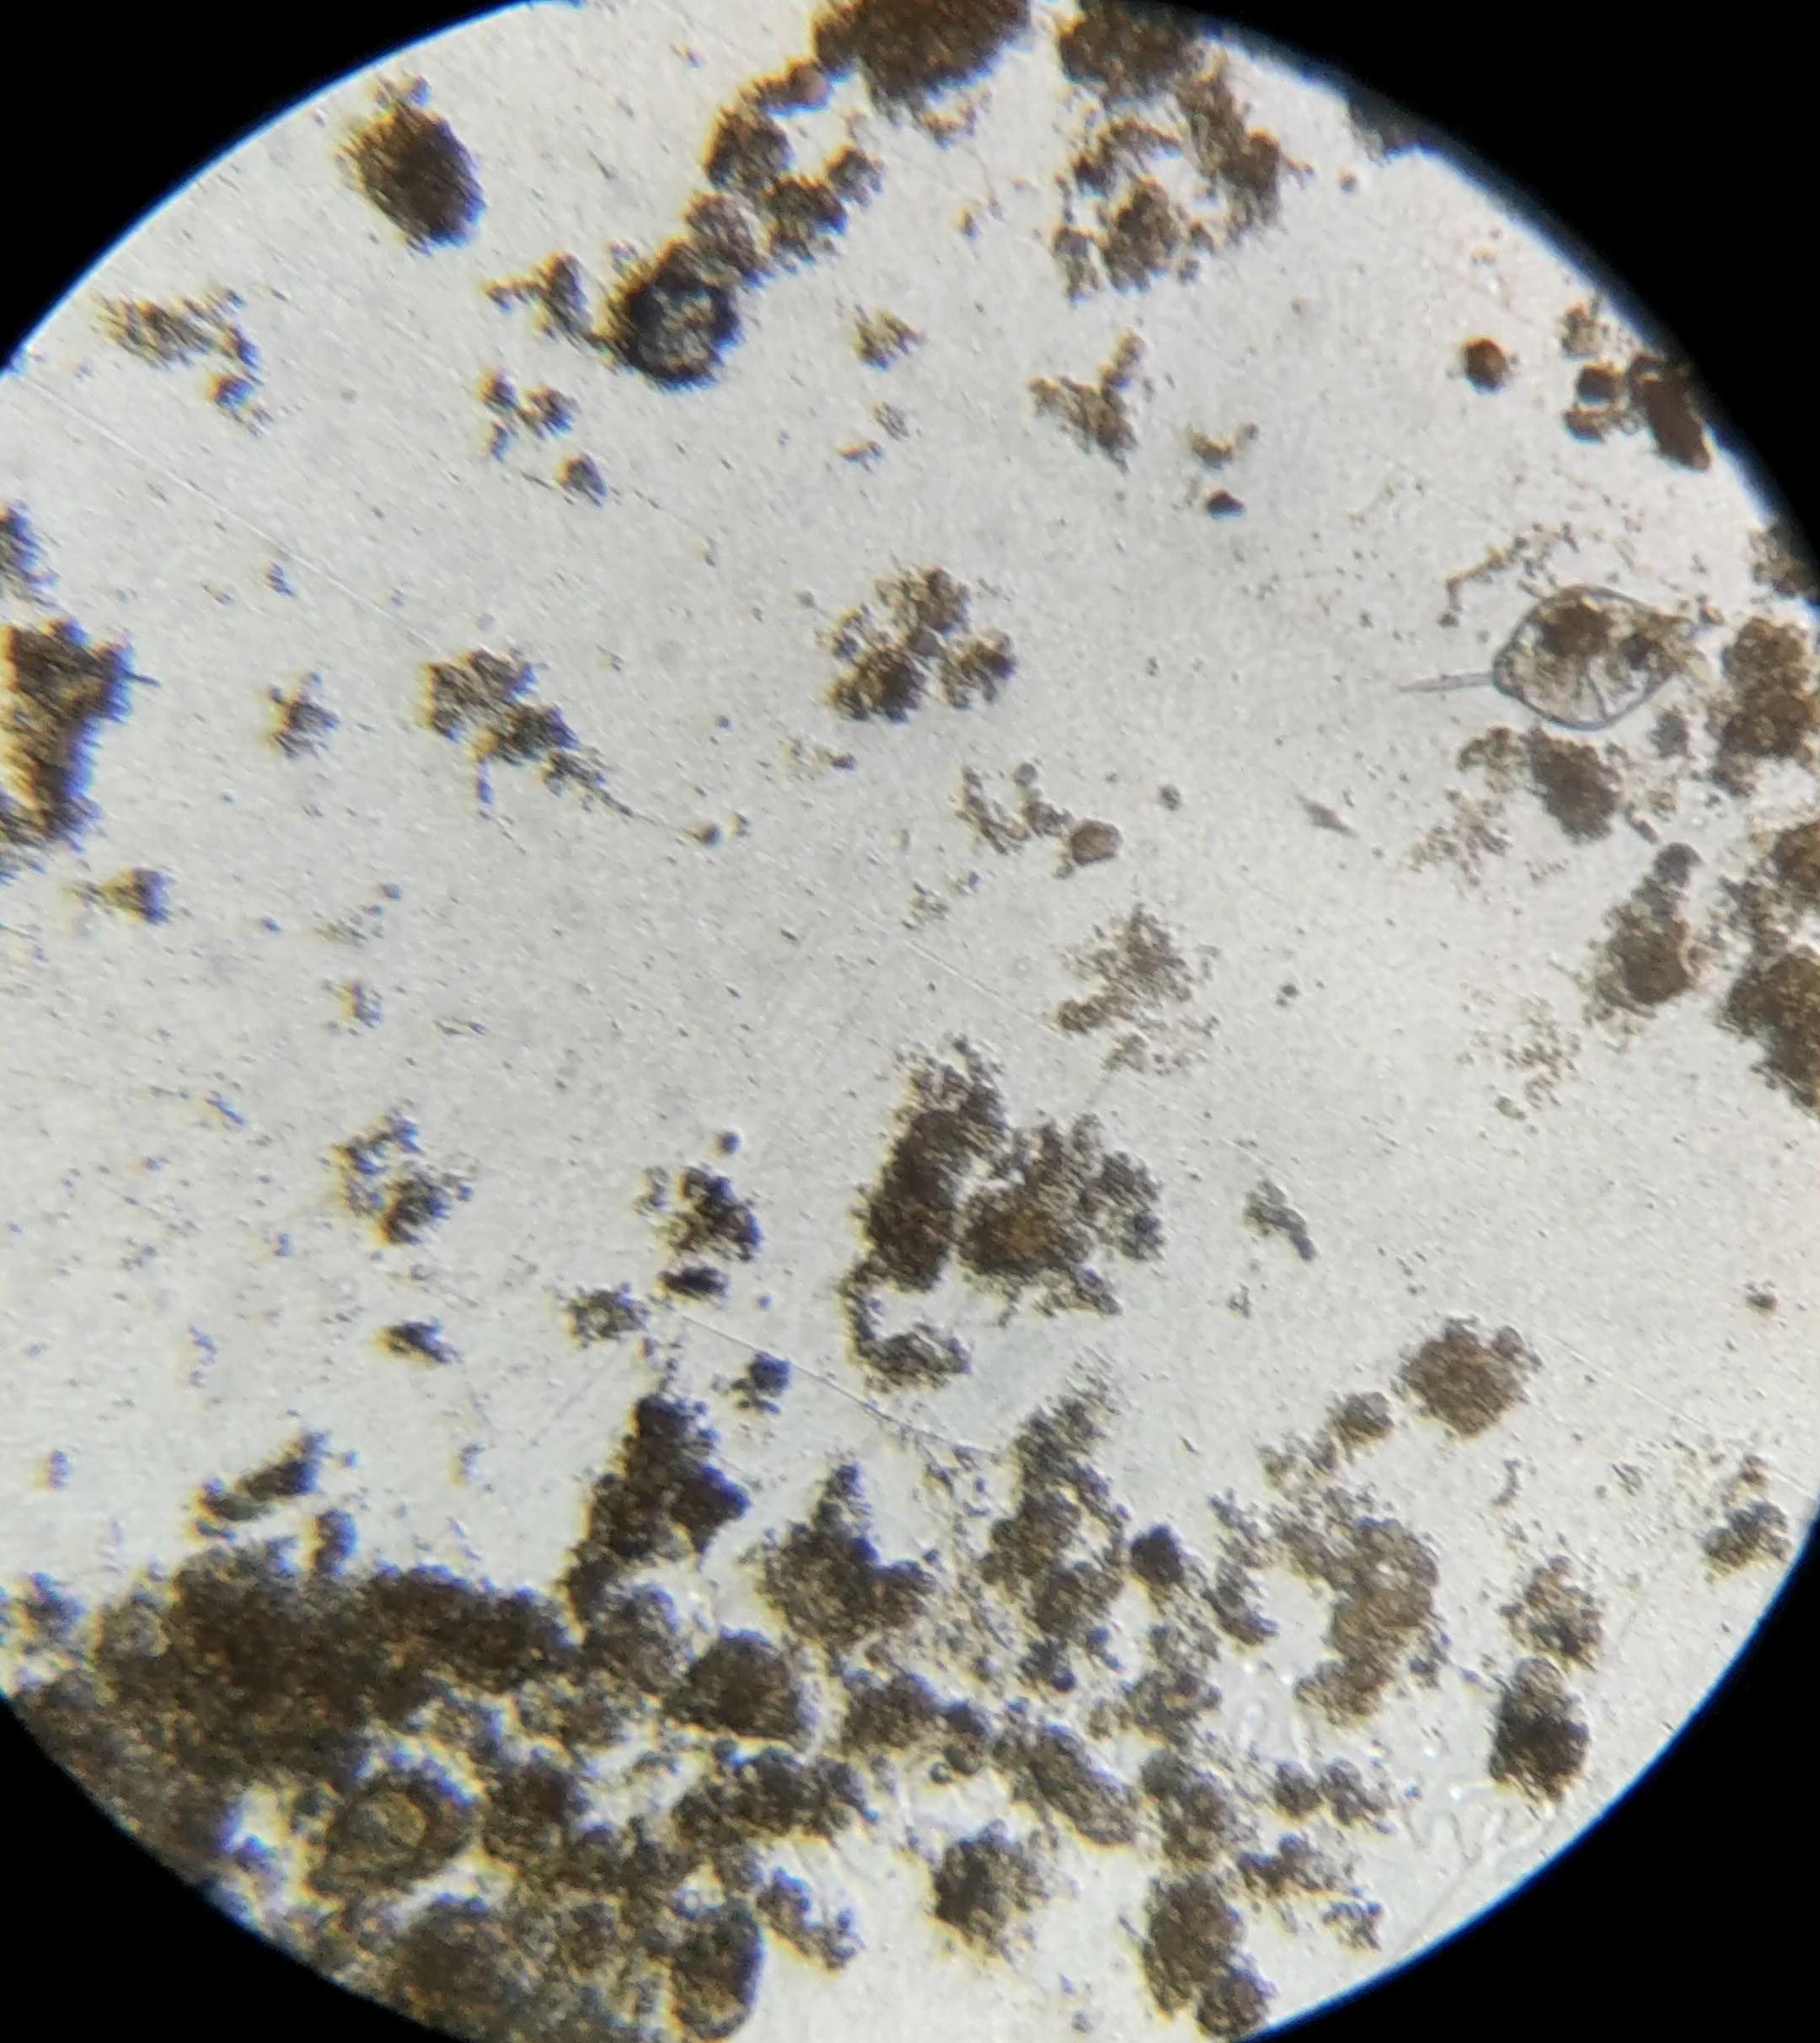Mo: (1395, 585, 1695, 731)
